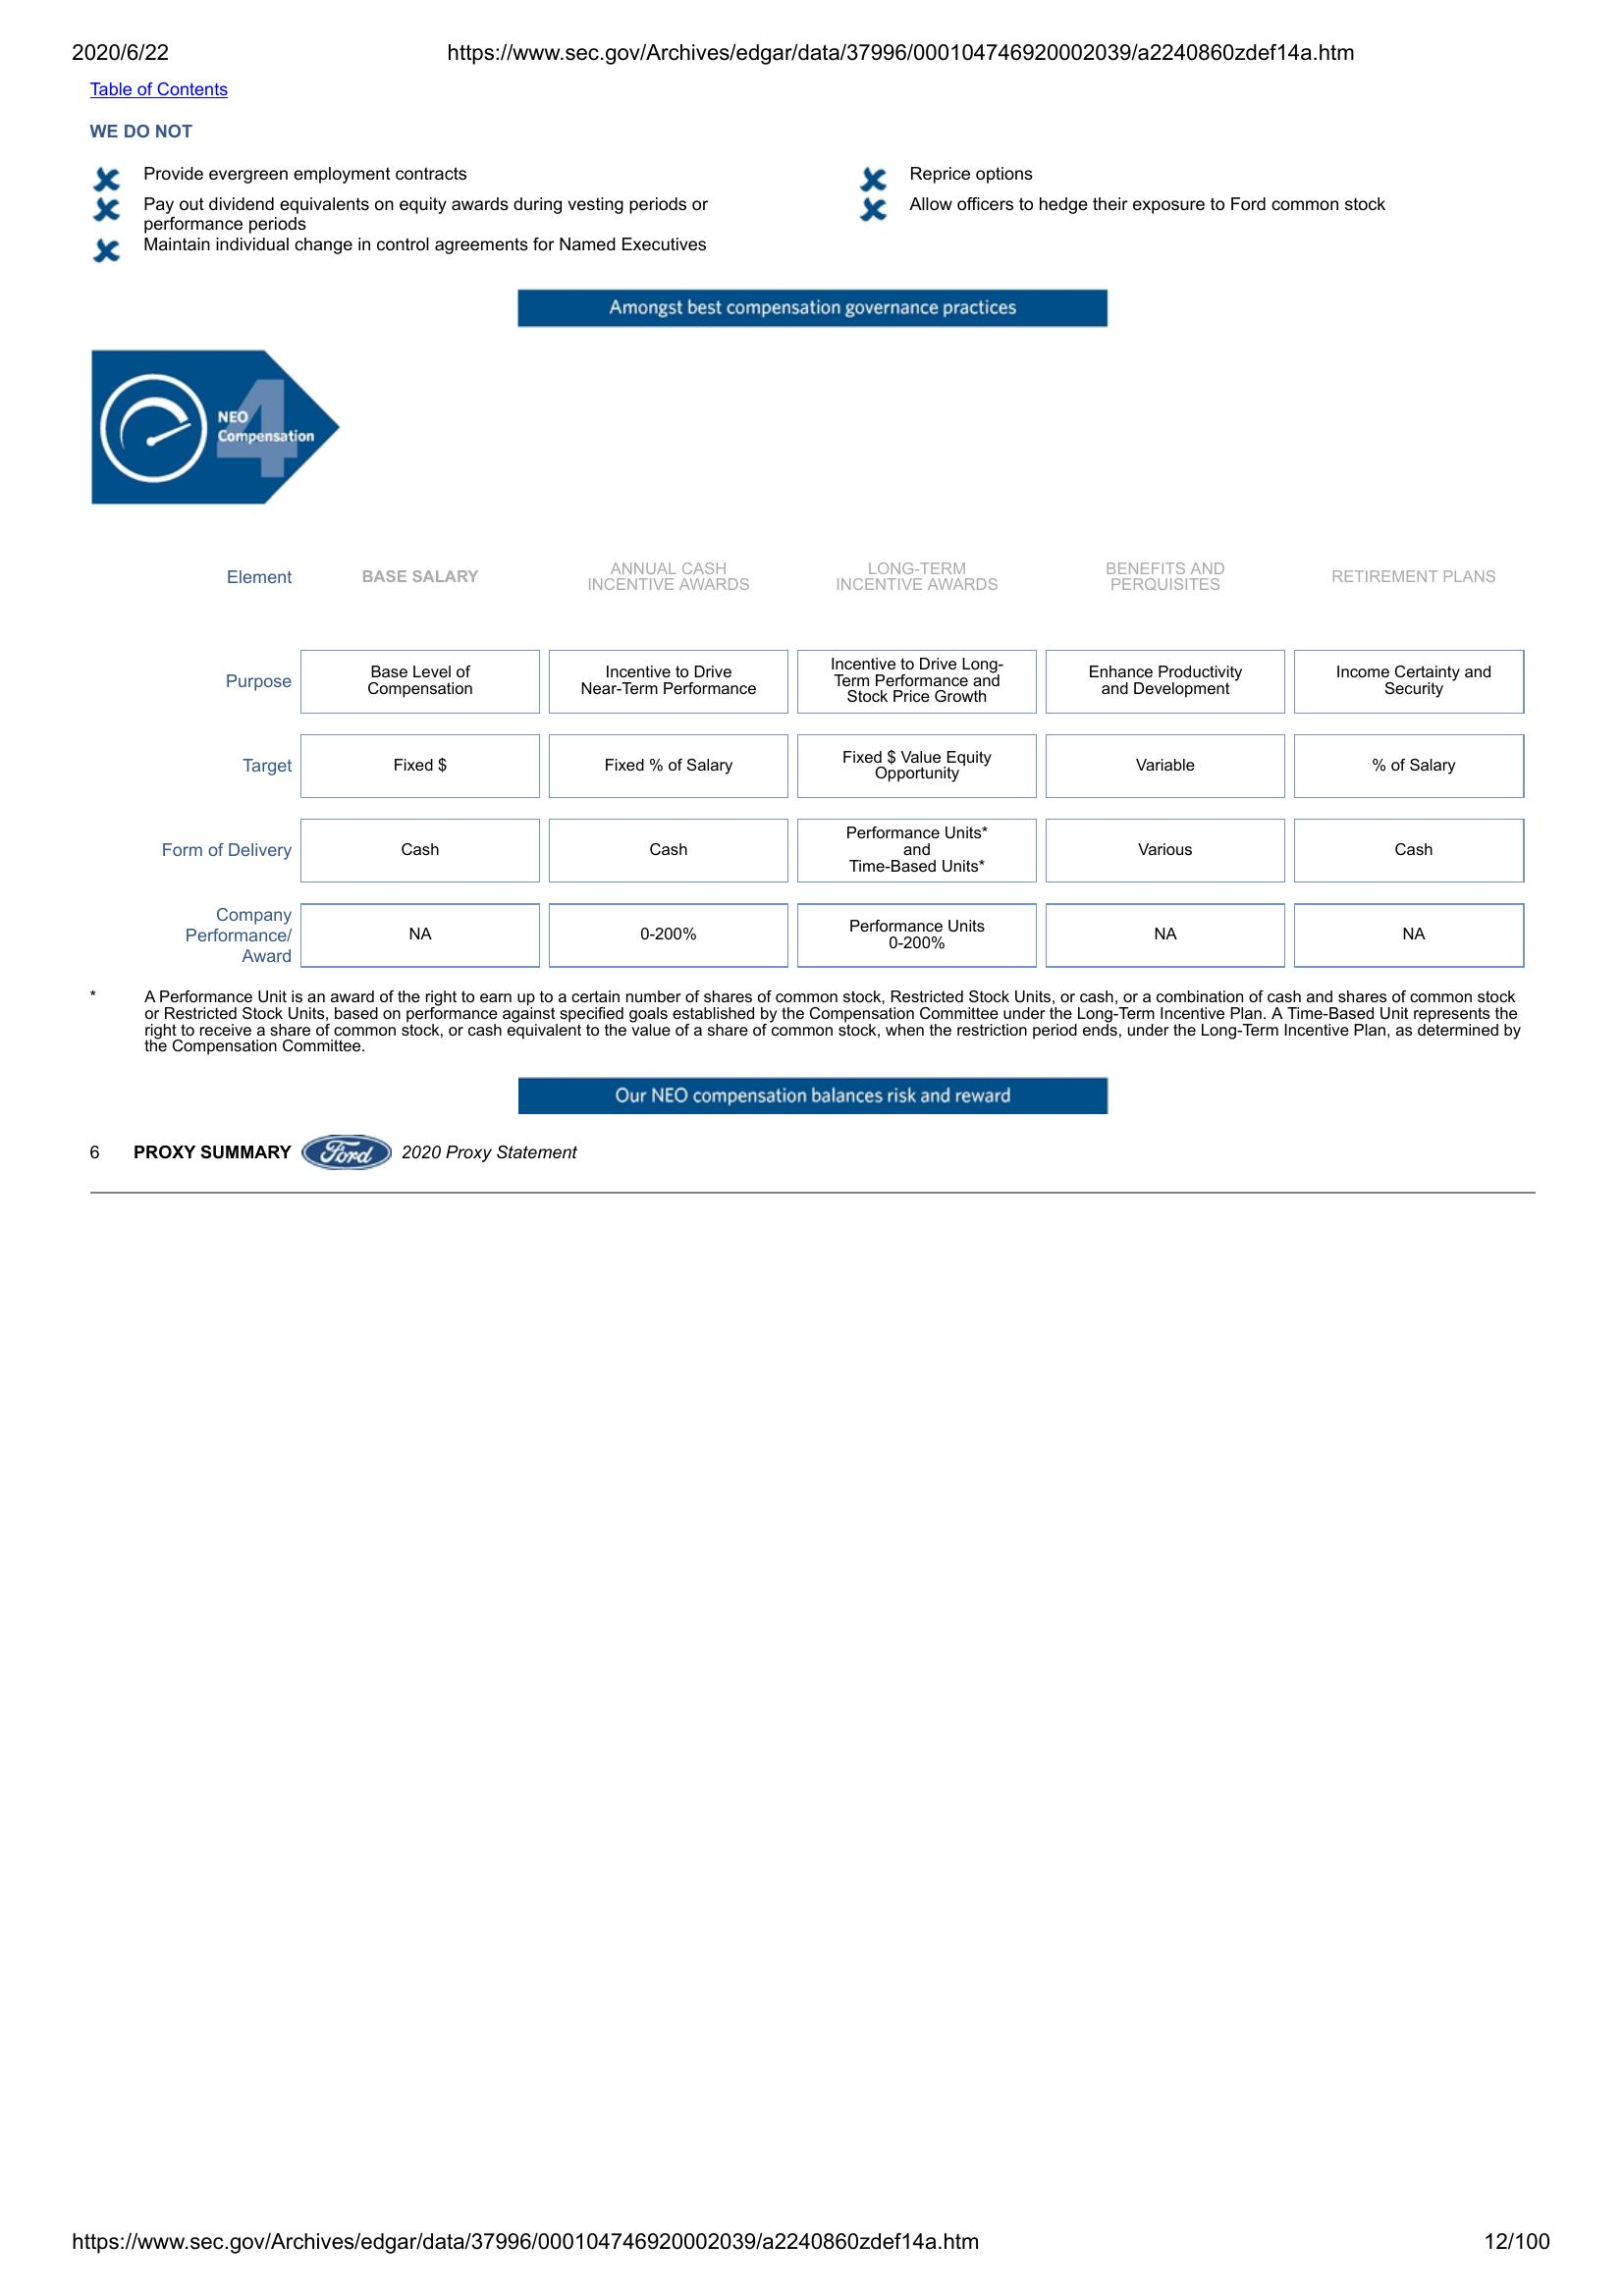table: (155, 537, 1526, 971)
